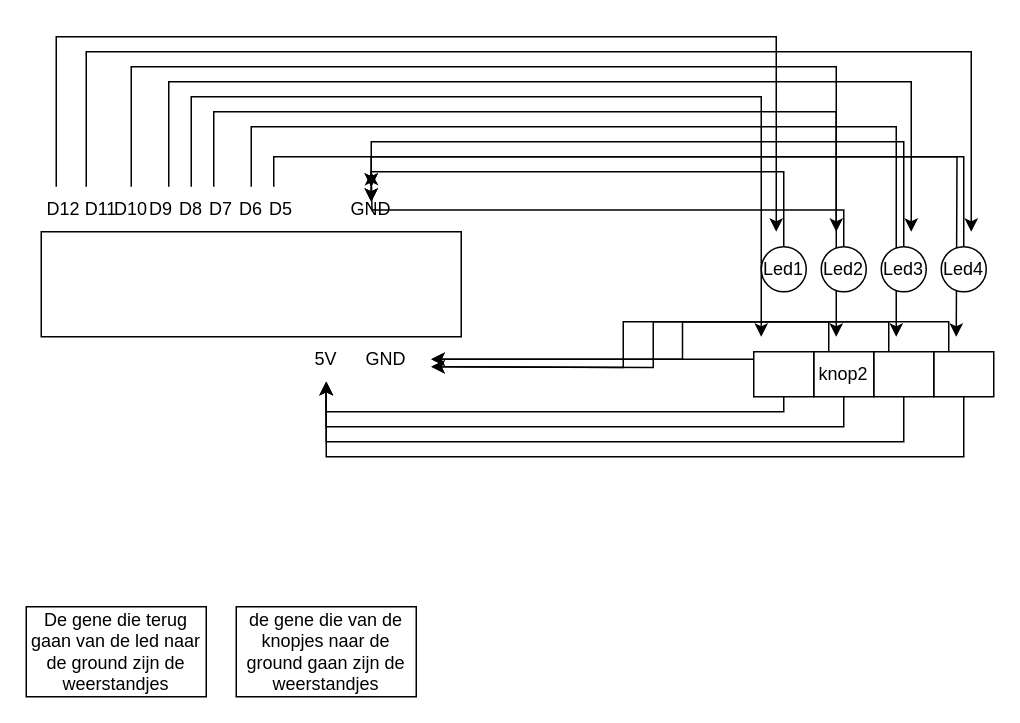
The diagram is 1020 pixels wide and 723 high, and some of its shapes have lost their labels. The centre of each missing label's shape, as x and y in pixels:
"Arduino" belongs at point 250,283.
"knop1" belongs at point 783,373.
"knop3" belongs at point 903,373.
"knop4" belongs at point 963,373.
